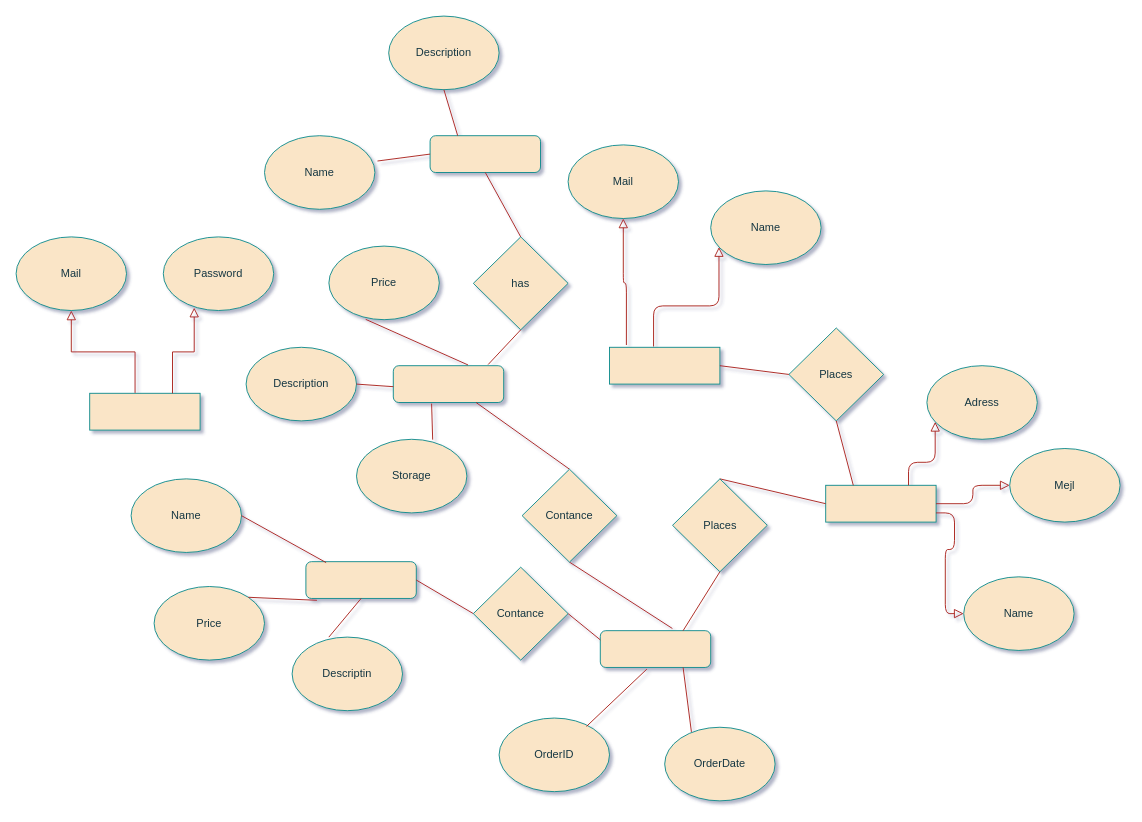
Image size: 1142x822. Some labels were removed from this diagram. Each missing label, with the centre of its shape:
"Admin" goes at (144,411).
"Categorie" goes at (484,153).
"Customer" goes at (880,503).
"News Letter (subsription)" goes at (664,365).
"Order" goes at (655,648).
"Produkt" goes at (448,383).
"Shipping" goes at (360,579).
